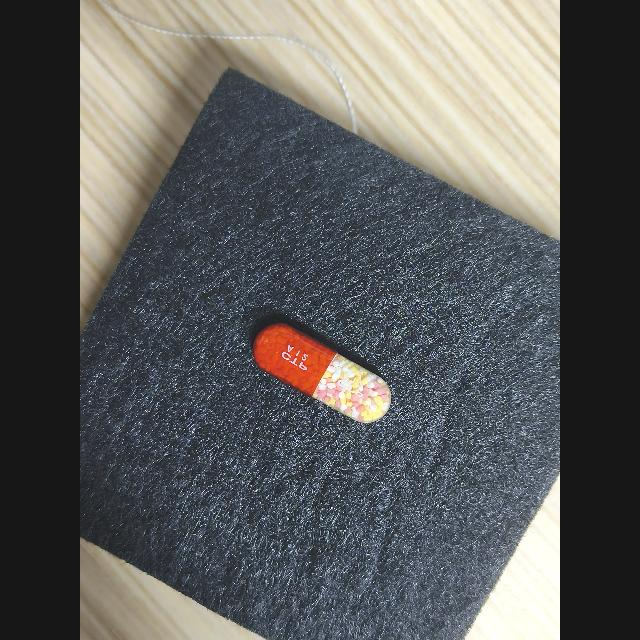Intact Capsule: (253, 323, 391, 423)
